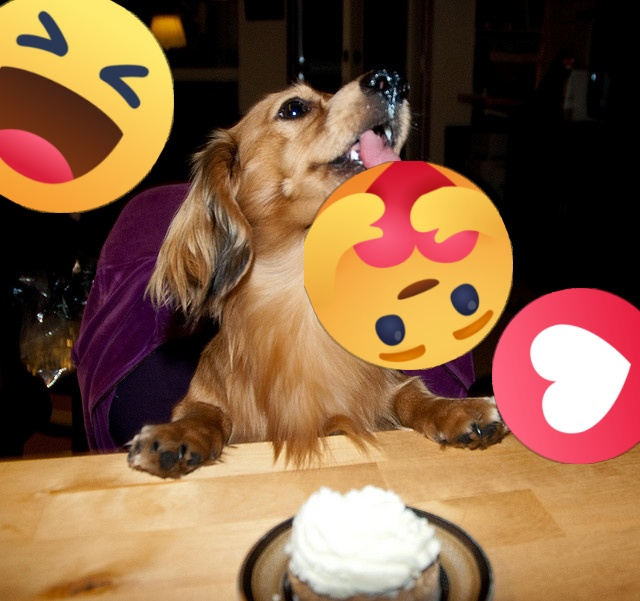care: (304, 161, 513, 370)
haha: (0, 0, 174, 213)
love: (492, 288, 640, 464)
